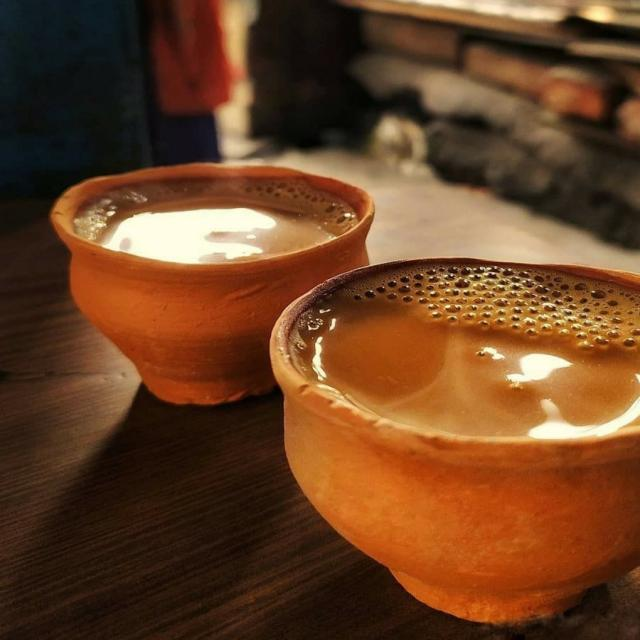Chai: (312, 254, 640, 438), (67, 171, 359, 273)
